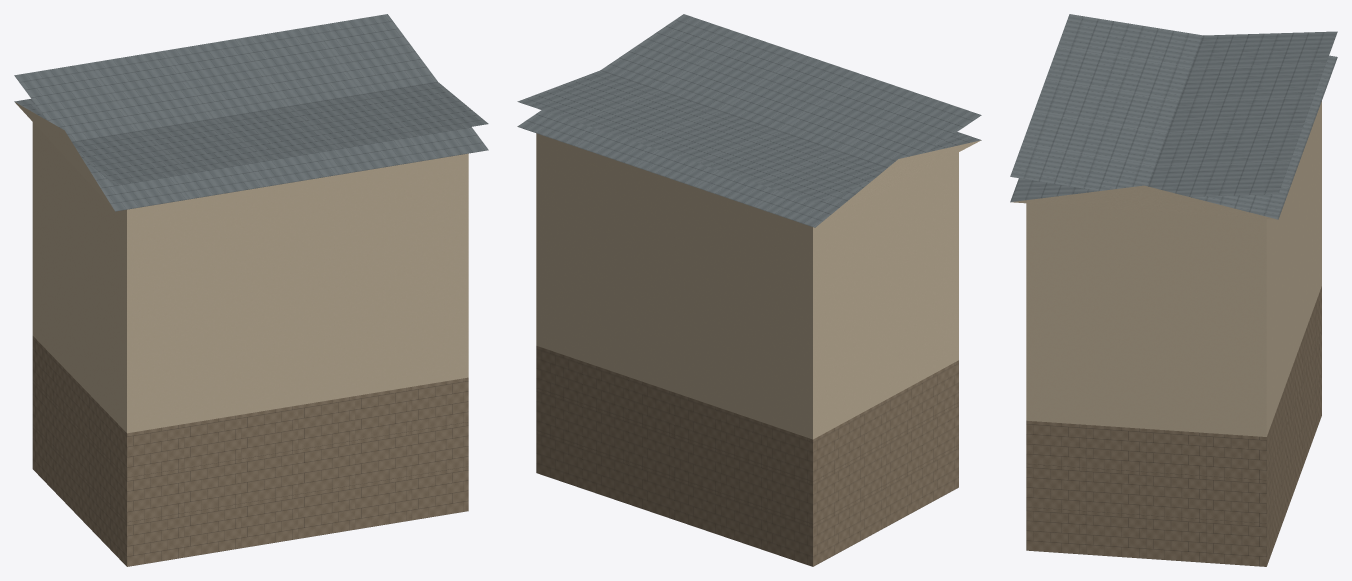
Rendered from bld_c20_31_371.gltf.
3 renders of one model, left to right at view 1: azimuth 30°, elevation 25°; view 2: azimuth 150°, elevation 25°; view 3: azimuth 270°, elevation 25°, orthographic. The views are drawn at different scales.
Parts seen in each view (by area): view 1: bld_c20_31_371; view 2: bld_c20_31_371; view 3: bld_c20_31_371.
Part boxes in pixels (box(x1,y1,x2,y2)): bld_c20_31_371: box(14, 14, 488, 566); bld_c20_31_371: box(517, 14, 981, 566); bld_c20_31_371: box(1010, 14, 1337, 566).
Bounding box in the file's own units: 15.18 × 14.9 × 11.66.
4 materials, 4 textured.
